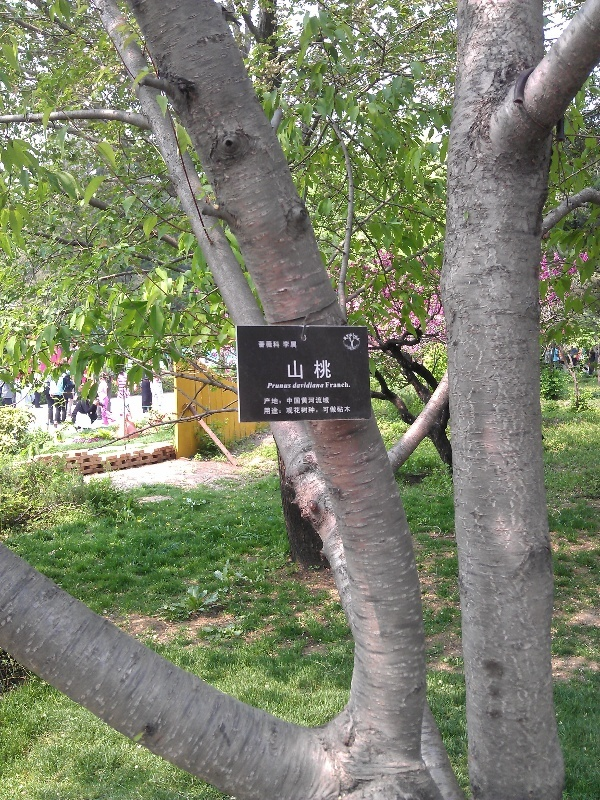text: (289, 360, 304, 380), (305, 360, 320, 380), (321, 360, 332, 380), (273, 405, 288, 415), (289, 405, 304, 415), (305, 405, 320, 415), (321, 405, 336, 415), (337, 405, 351, 415), (273, 397, 288, 405), (289, 397, 304, 405), (305, 397, 320, 405), (305, 382, 320, 389), (259, 341, 272, 348), (273, 383, 288, 389), (337, 382, 351, 388), (292, 382, 304, 389), (264, 405, 272, 415), (321, 397, 330, 405), (325, 382, 336, 388), (264, 397, 272, 405), (289, 341, 297, 349), (273, 341, 280, 348), (283, 341, 288, 349), (267, 383, 272, 389), (321, 382, 325, 389), (289, 383, 292, 389)
